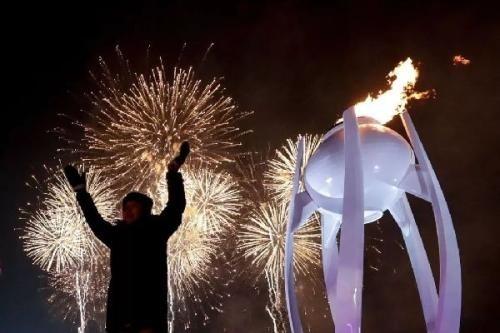fire: (350, 55, 432, 126)
